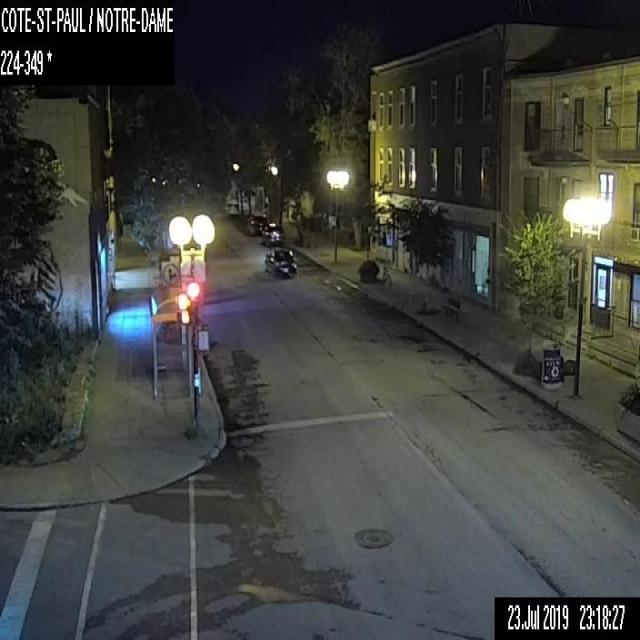vehicle: (262, 247, 296, 276), (245, 213, 268, 235), (261, 222, 283, 243), (226, 200, 239, 215)
